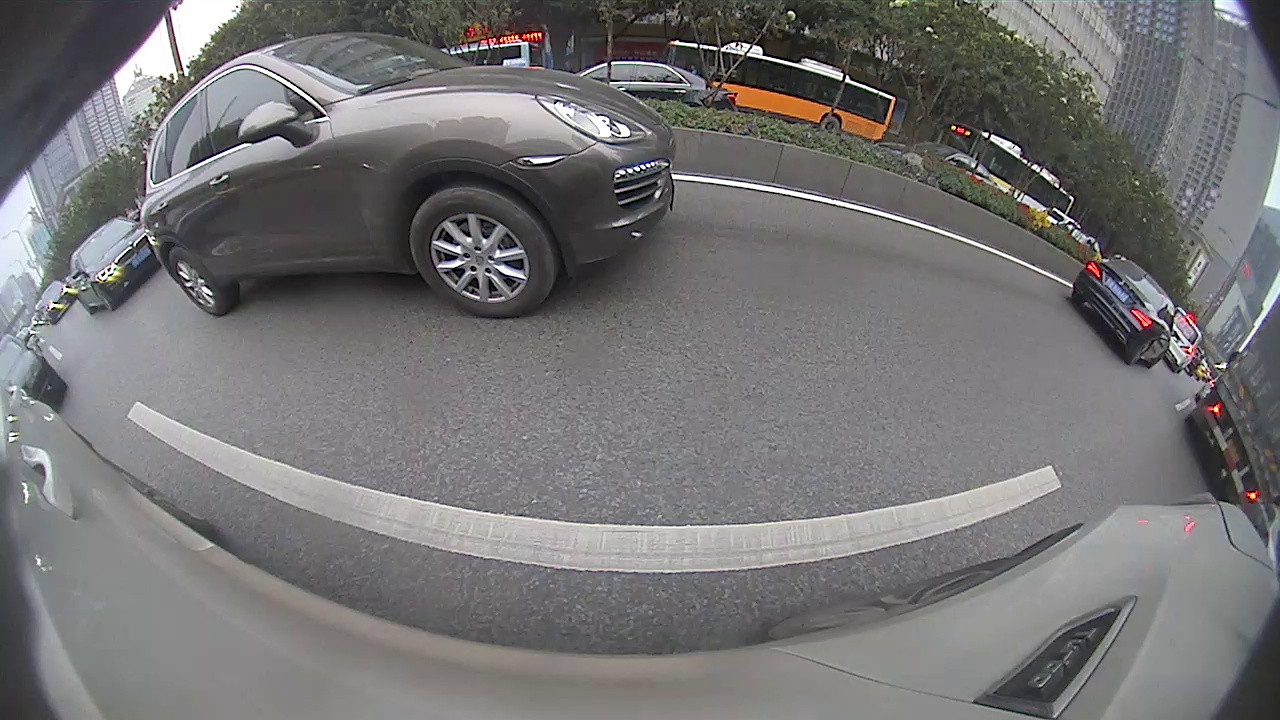car: (145, 33, 673, 318), (1069, 255, 1172, 369), (69, 219, 152, 316), (1169, 306, 1200, 378)
front: (410, 185, 556, 312)
rear: (169, 247, 229, 315), (821, 113, 842, 135)
